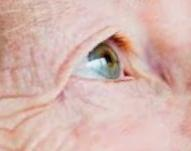eye: (88, 43, 121, 79)
